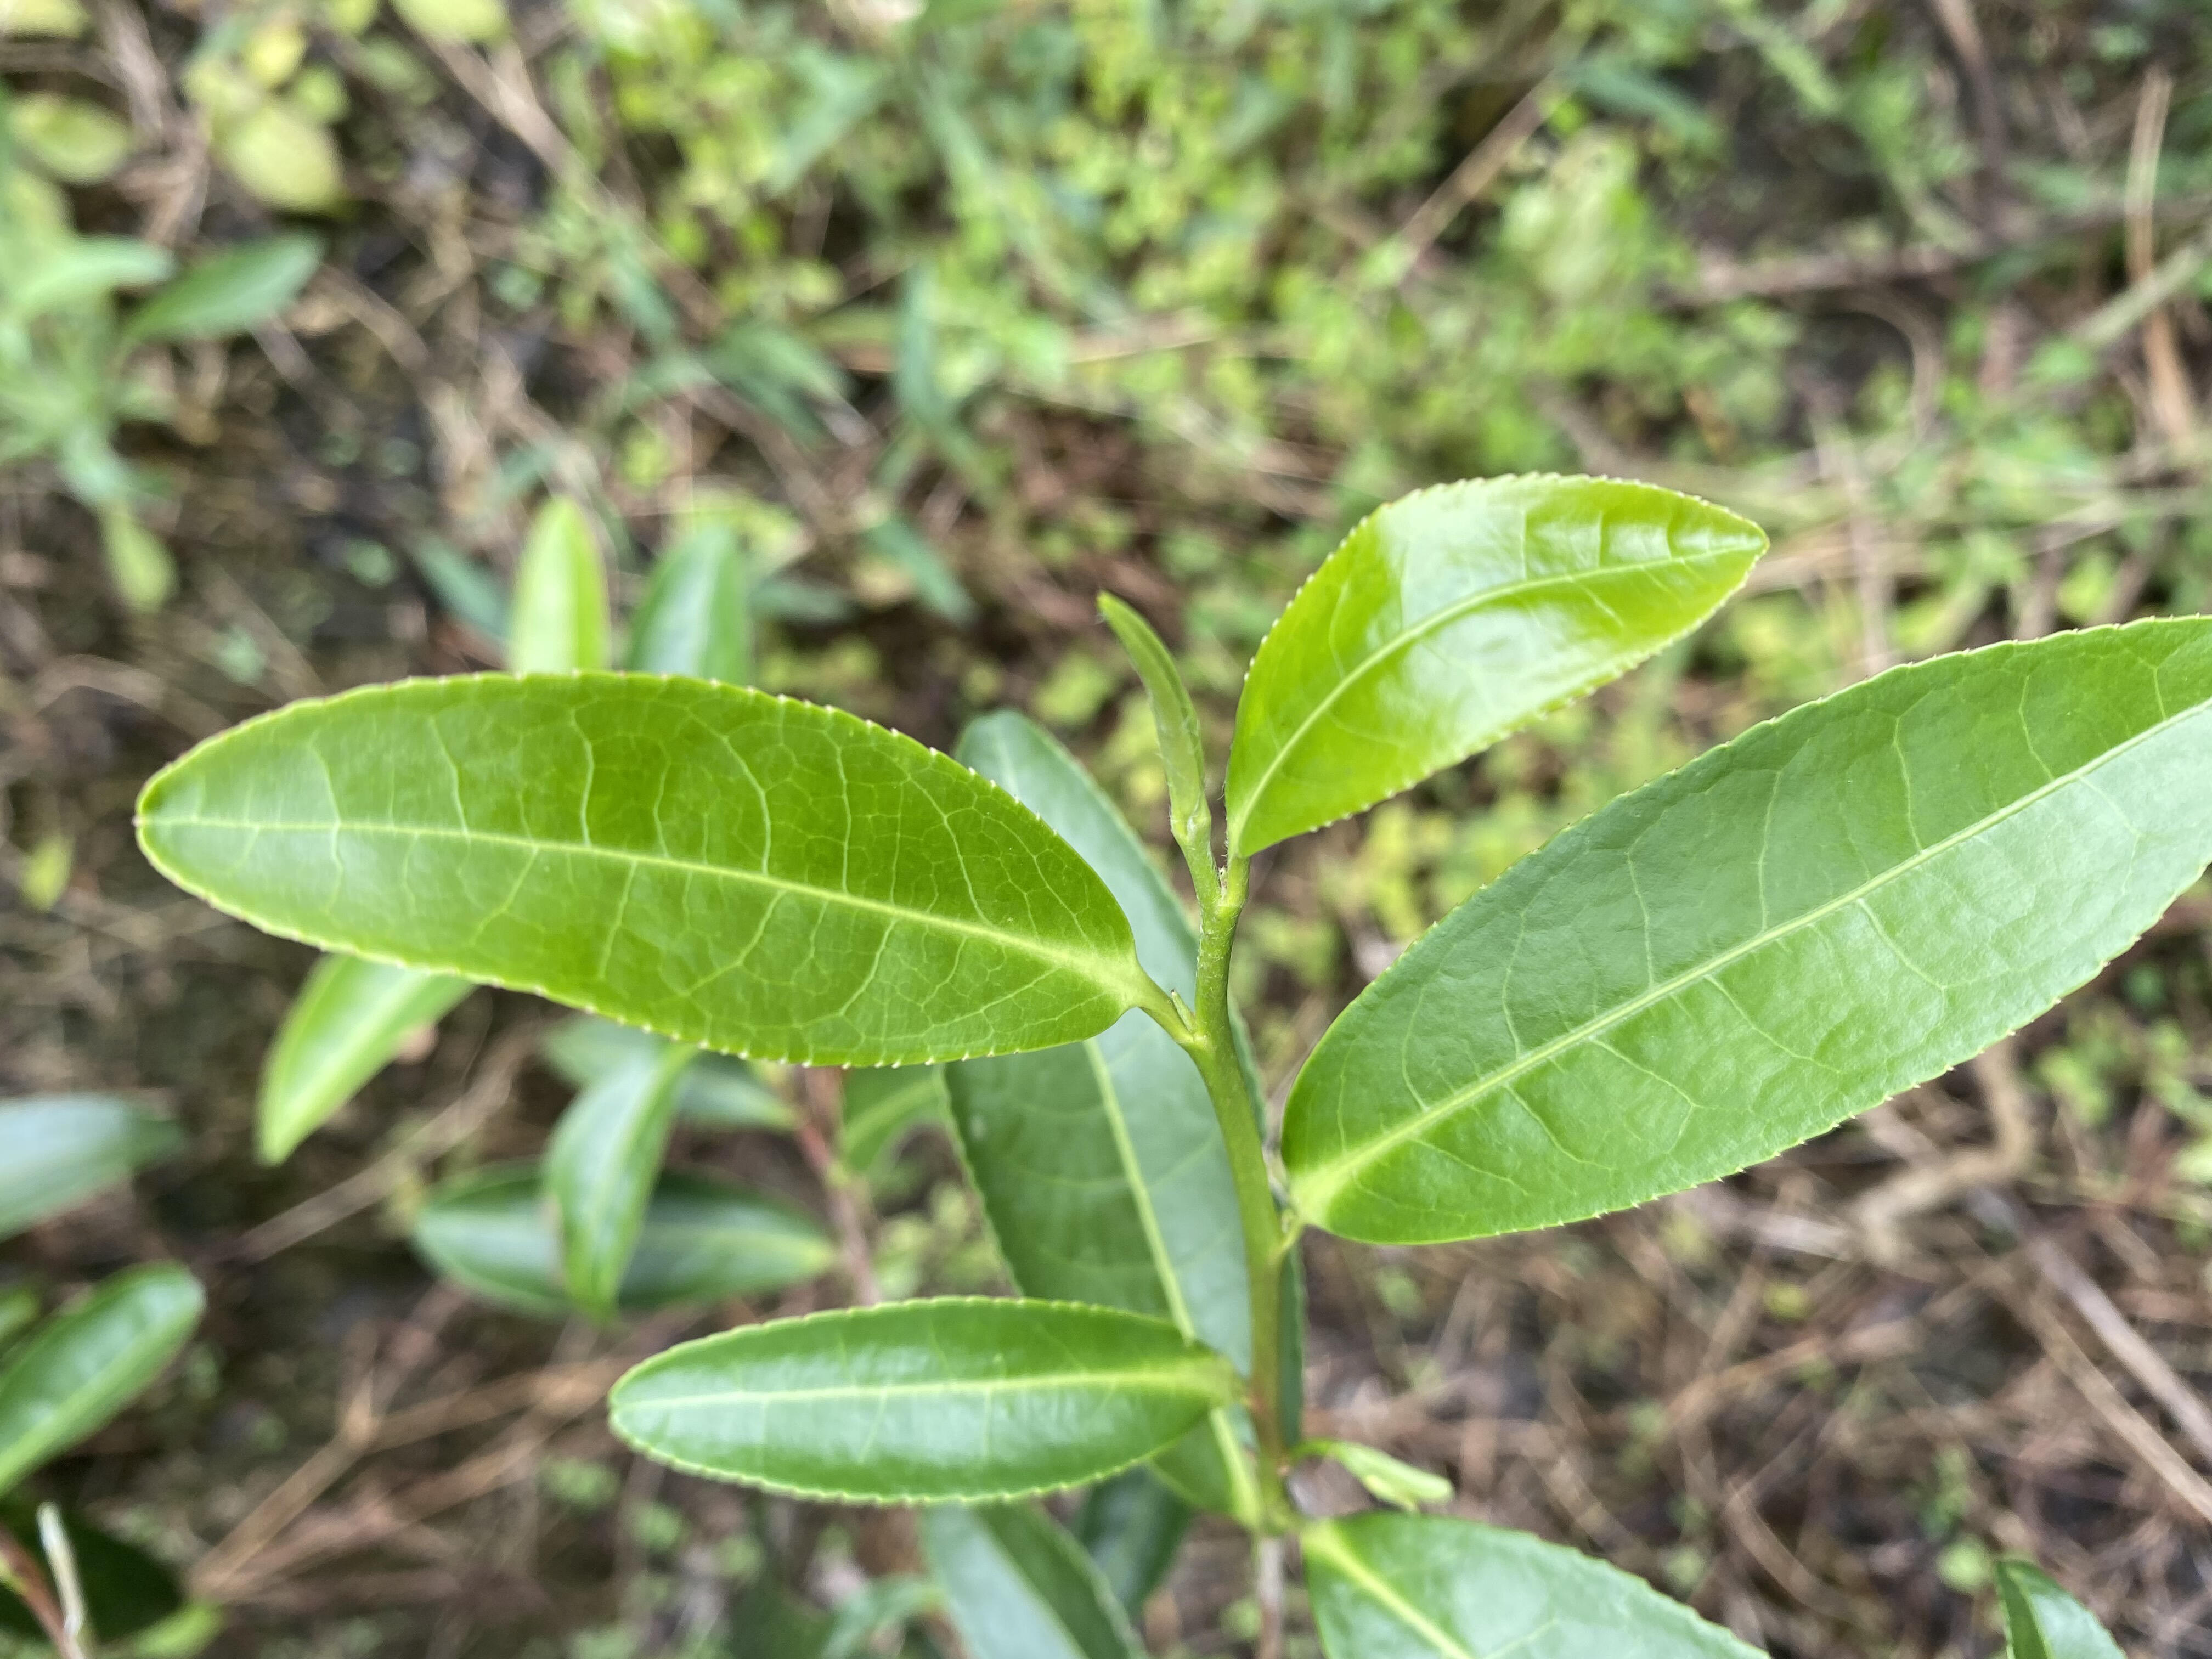healthy: (1284, 610, 2209, 1248), (129, 667, 1137, 1072), (1217, 467, 1771, 859), (606, 1295, 1226, 1506)
